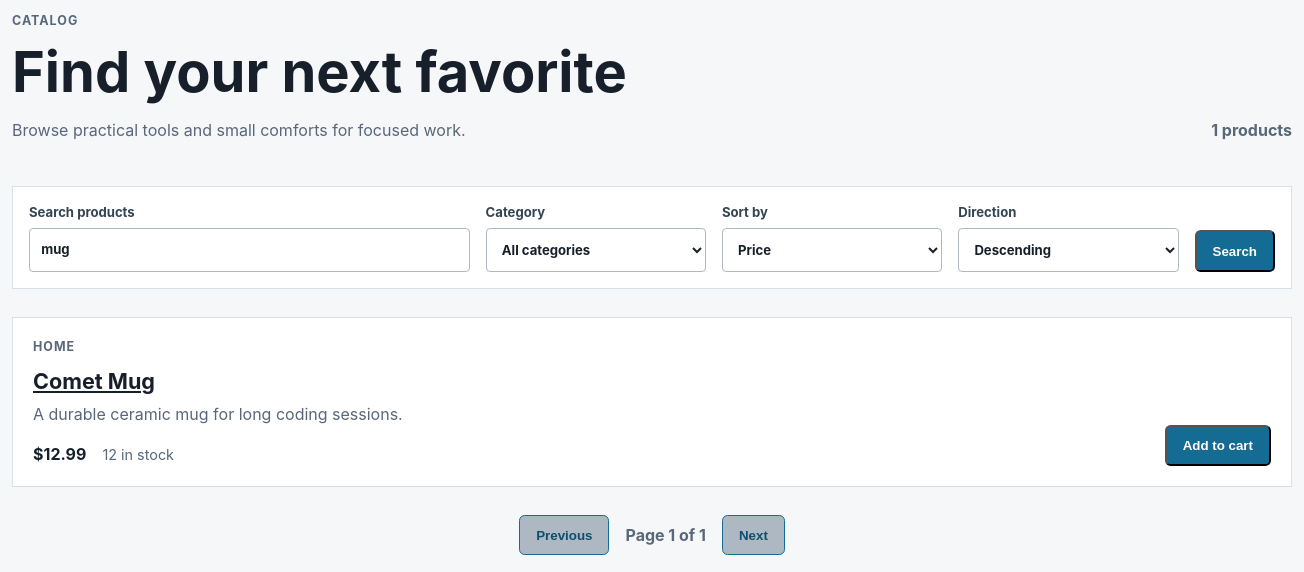
Scenario: product catalog › loads a shareable URL query and renders product details
Expected: the heading "Comet Mug" is shown, [33,368,155,394]
Expected: the search field labelled "Search products" holds "mug", [29,228,470,272]
Click the button "Add to cart": (1218,446) [1165,425,1271,466]
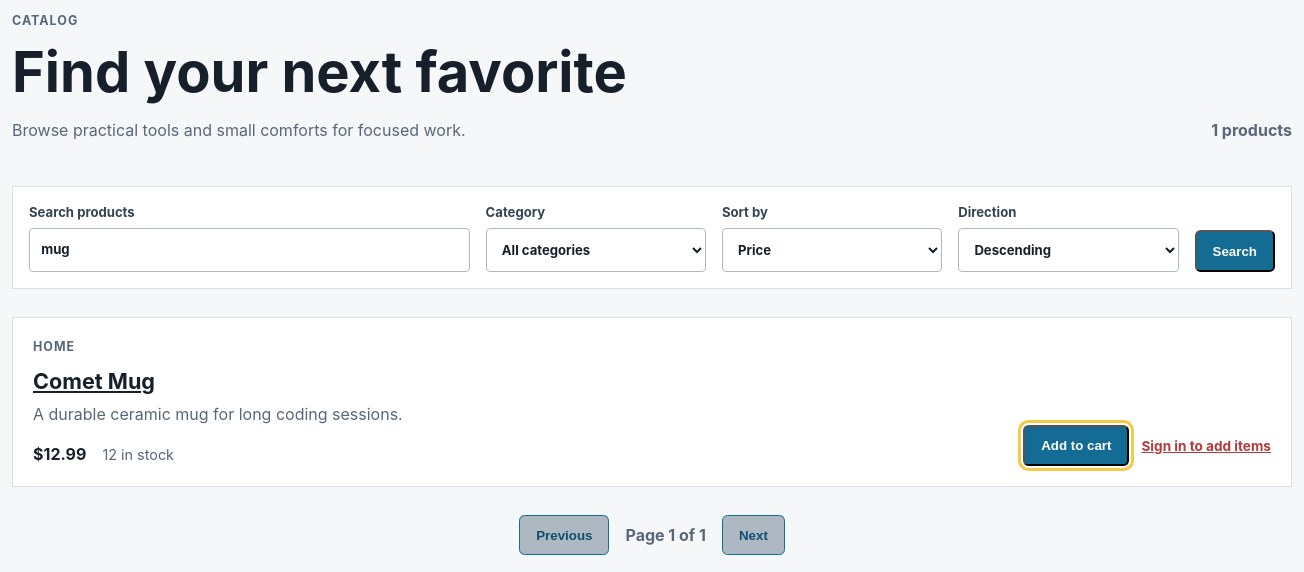
Expected: the message reads "Sign in to add items", [1142,438,1271,454]
